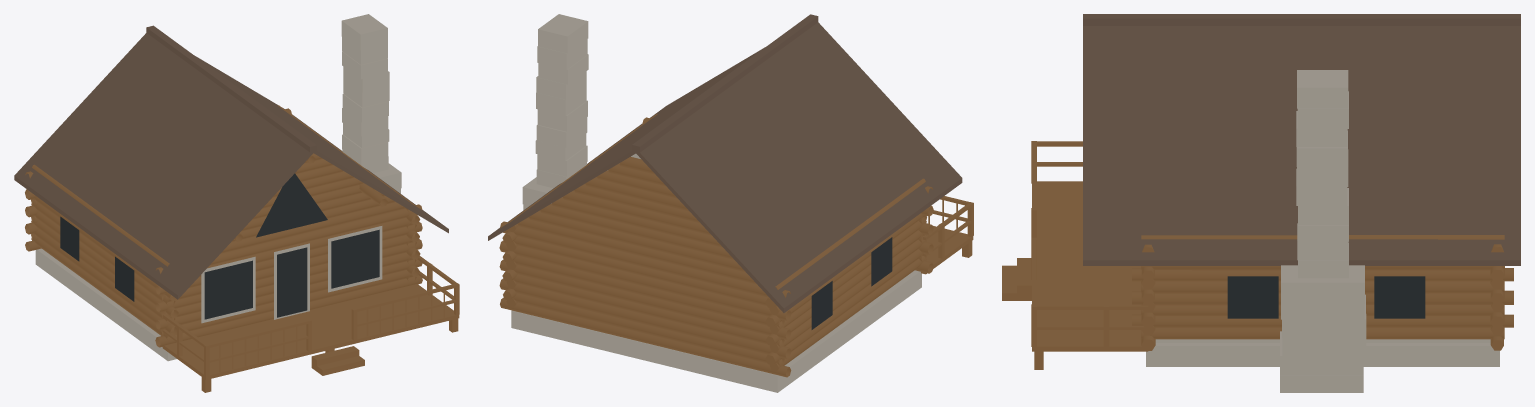
File: Blender_LogCabin_1.glb
3 views of the same model, side by side, from view 1: azimuth 30°, elevation 25°; view 2: azimuth 150°, elevation 25°; view 3: azimuth 270°, elevation 25° (orthographic). The views are drawn at different scales.
Visible parts, largest first — view 1: Blender_LogCabin_1; view 2: Blender_LogCabin_1; view 3: Blender_LogCabin_1.
Boxes of the visible parts, x1=… form: Blender_LogCabin_1: x1=14, y1=14, x2=459, y2=392; Blender_LogCabin_1: x1=488, y1=14, x2=973, y2=392; Blender_LogCabin_1: x1=1002, y1=14, x2=1520, y2=392.
Bounding box in the file's own units: 9.88 × 7.12 × 11.14.
